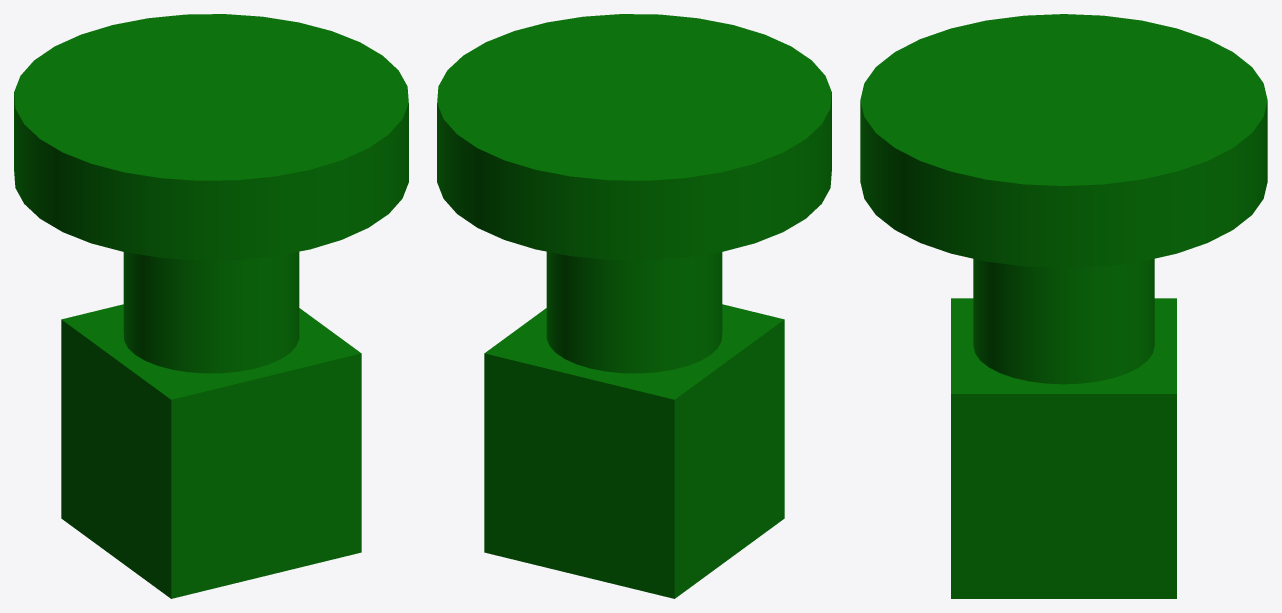
File: Image-1711348064005-2281443608160_42-PE60.fbx
3 views of the same model, side by side, from view 1: azimuth 30°, elevation 25°; view 2: azimuth 150°, elevation 25°; view 3: azimuth 270°, elevation 25° (orthographic). The views are drawn at different scales.
Visible parts, largest first — view 1: CYLINDER 2 of EQUIPMENT /42-PE60, BOX 1 of EQUIPMENT /42-PE60, CYLINDER 1 of EQUIPMENT /42-PE60; view 2: CYLINDER 2 of EQUIPMENT /42-PE60, BOX 1 of EQUIPMENT /42-PE60, CYLINDER 1 of EQUIPMENT /42-PE60; view 3: CYLINDER 2 of EQUIPMENT /42-PE60, BOX 1 of EQUIPMENT /42-PE60, CYLINDER 1 of EQUIPMENT /42-PE60.
Boxes of the visible parts, x1,y1,x2,y2 form: CYLINDER 2 of EQUIPMENT /42-PE60: [14, 14, 408, 260]; BOX 1 of EQUIPMENT /42-PE60: [61, 304, 361, 598]; CYLINDER 1 of EQUIPMENT /42-PE60: [123, 251, 299, 373]; CYLINDER 2 of EQUIPMENT /42-PE60: [437, 14, 831, 260]; BOX 1 of EQUIPMENT /42-PE60: [484, 304, 784, 598]; CYLINDER 1 of EQUIPMENT /42-PE60: [546, 251, 722, 373]; CYLINDER 2 of EQUIPMENT /42-PE60: [860, 14, 1267, 267]; BOX 1 of EQUIPMENT /42-PE60: [951, 298, 1176, 598]; CYLINDER 1 of EQUIPMENT /42-PE60: [973, 258, 1154, 384].
Size of the model in its own units: 0.18 by 0.18 by 0.22.
